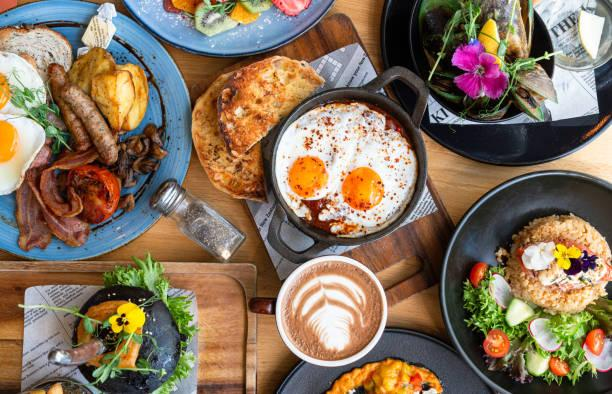Braised Crucian Carp: (3, 2, 191, 266), (439, 171, 611, 391), (263, 67, 428, 262)
